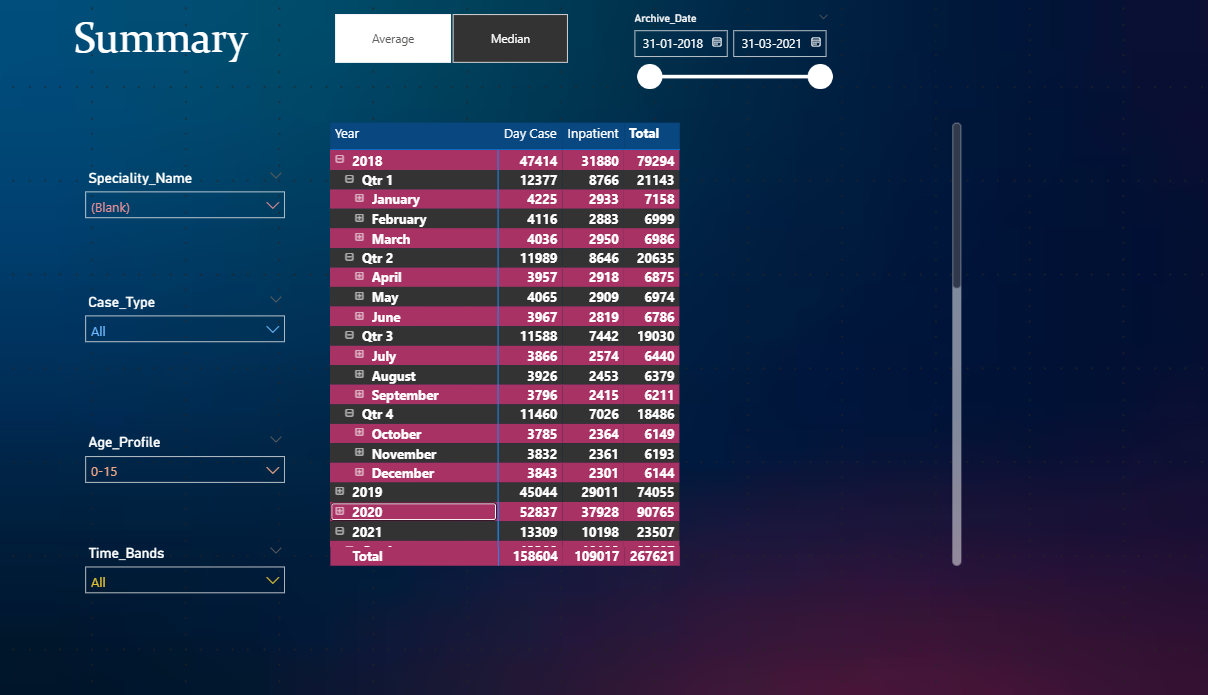

The page's visual inventory and layout, read from the dashboard file:
{"tool":"powerbi","page":{"name":"Detail","canvas":[1280,720],"ordinal":1},"visuals":[{"type":"slicer","fields":{"Values":["Table.Calc Method"]},"box":[320,16,288,64],"z":0},{"type":"slicer","fields":{"Values":["All_Data.Case_Type"]},"box":[80,304,224,80],"z":1000},{"type":"textbox","box":[16,16,304,96],"z":2000},{"type":"slicer","fields":{"Values":["All_Data.Speciality_Name"]},"box":[80,176,224,64],"z":3000},{"type":"slicer","fields":{"Values":["All_Data.Age_Profile"]},"box":[80,448,224,64],"z":4000},{"type":"slicer","fields":{"Values":["All_Data.Time_Bands"]},"box":[80,560,224,64],"z":5000},{"type":"pivotTable","fields":{"Rows":["All_Data.Archive_Date.Variation.Date Hierarchy.Year","All_Data.Archive_Date.Variation.Date Hierarchy.Quarter","All_Data.Archive_Date.Variation.Date Hierarchy.Month","All_Data.Archive_Date.Variation.Date Hierarchy.Day","All_Data.Age_Profile","All_Data.Speciality_Name","All_Data.Time_Bands"],"Columns":["All_Data.Case_Type"],"Values":["Sum(All_Data.Total)"]},"box":[336,128,656,464],"z":6000},{"type":"slicer","fields":{"Values":["All_Data.Archive_Date"]},"box":[640,16,224,96],"z":7000}]}

Visuals, with their boxes in screenshot pixels (x1, y1, x2, y2), scaled from the page's 1280x720 canvas onto the 1208x695 screenshot:
slicer - Table.Calc Method: 302 15 574 77
slicer - All_Data.Case_Type: 76 293 287 371
textbox: 15 15 302 108
slicer - All_Data.Speciality_Name: 76 170 287 232
slicer - All_Data.Age_Profile: 76 432 287 494
slicer - All_Data.Time_Bands: 76 541 287 602
pivotTable - All_Data.Archive_Date.Variation.Date Hierarchy.Year x All_Data.Archive_Date.Variation.Date Hierarchy.Quarter: 317 124 936 571
slicer - All_Data.Archive_Date: 604 15 815 108
